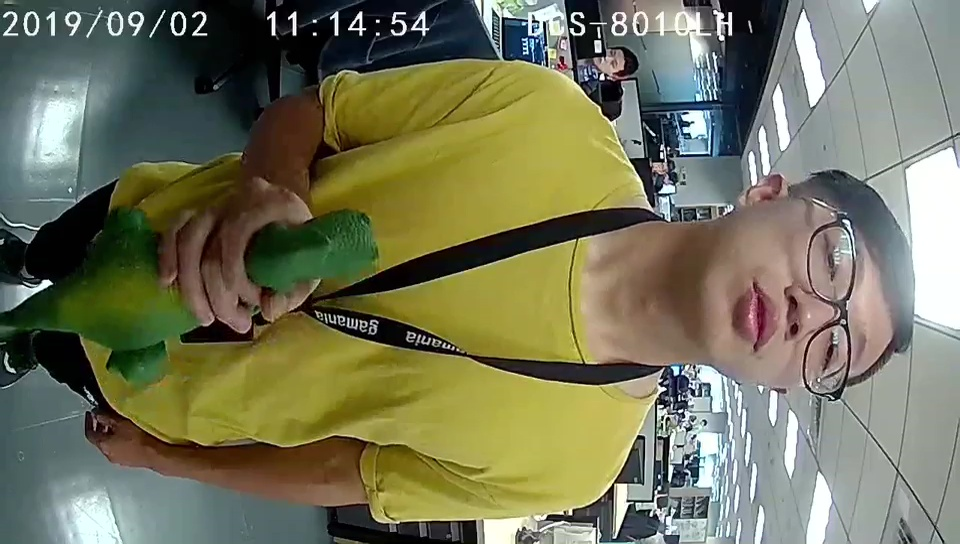rex: (89, 206, 377, 384)
